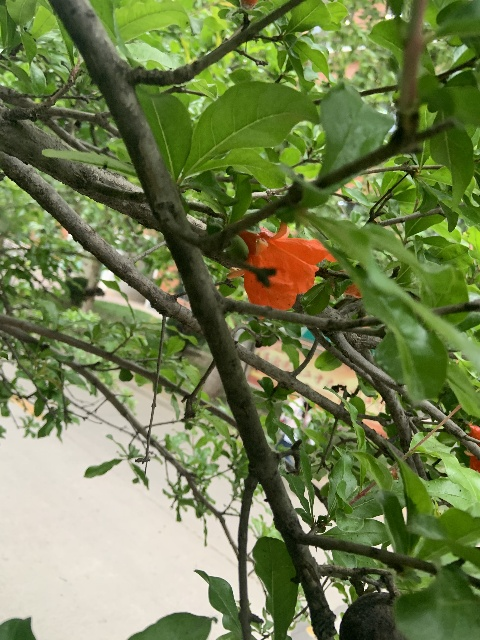flower: (226, 221, 336, 319)
